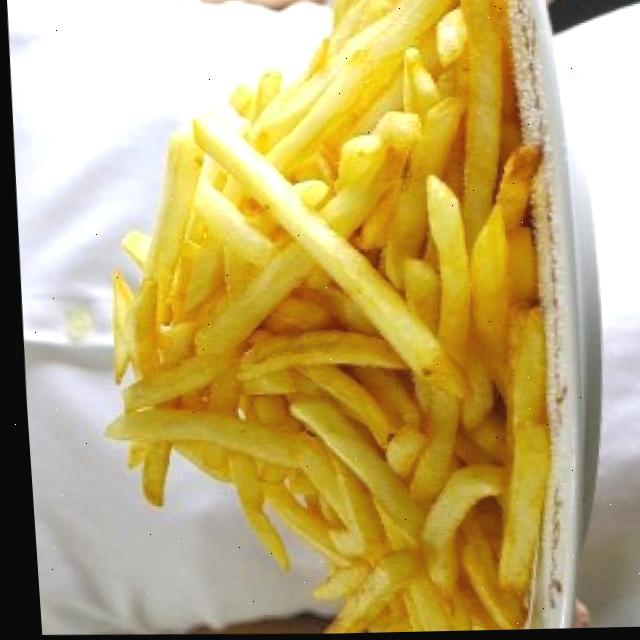炸货点心: (68, 0, 623, 639)
